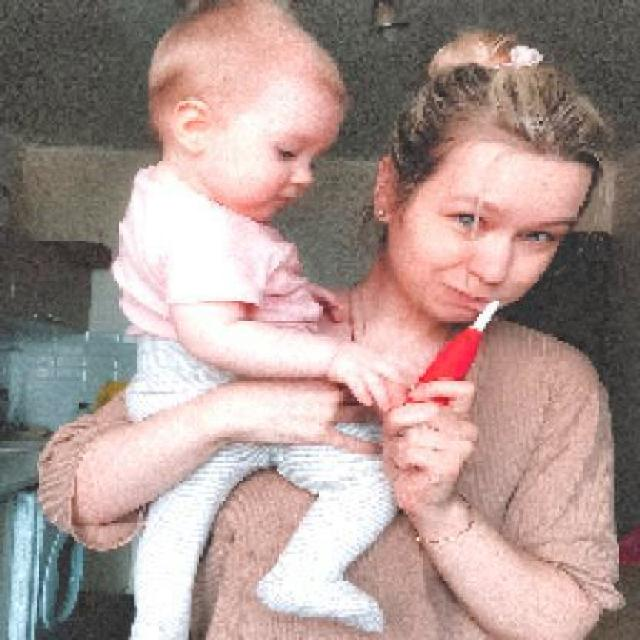child: (108, 0, 401, 637)
